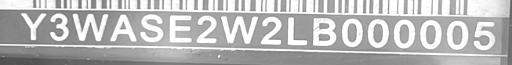letter: (68, 10, 112, 43), (216, 12, 260, 45), (106, 12, 142, 45), (18, 10, 52, 41), (164, 11, 194, 46), (309, 14, 339, 49), (338, 16, 368, 51), (470, 19, 500, 54), (366, 15, 394, 52), (417, 16, 445, 53), (286, 12, 312, 51), (445, 17, 471, 56), (136, 11, 168, 42), (192, 11, 220, 46), (258, 16, 288, 47), (391, 18, 417, 53), (49, 12, 75, 43)
